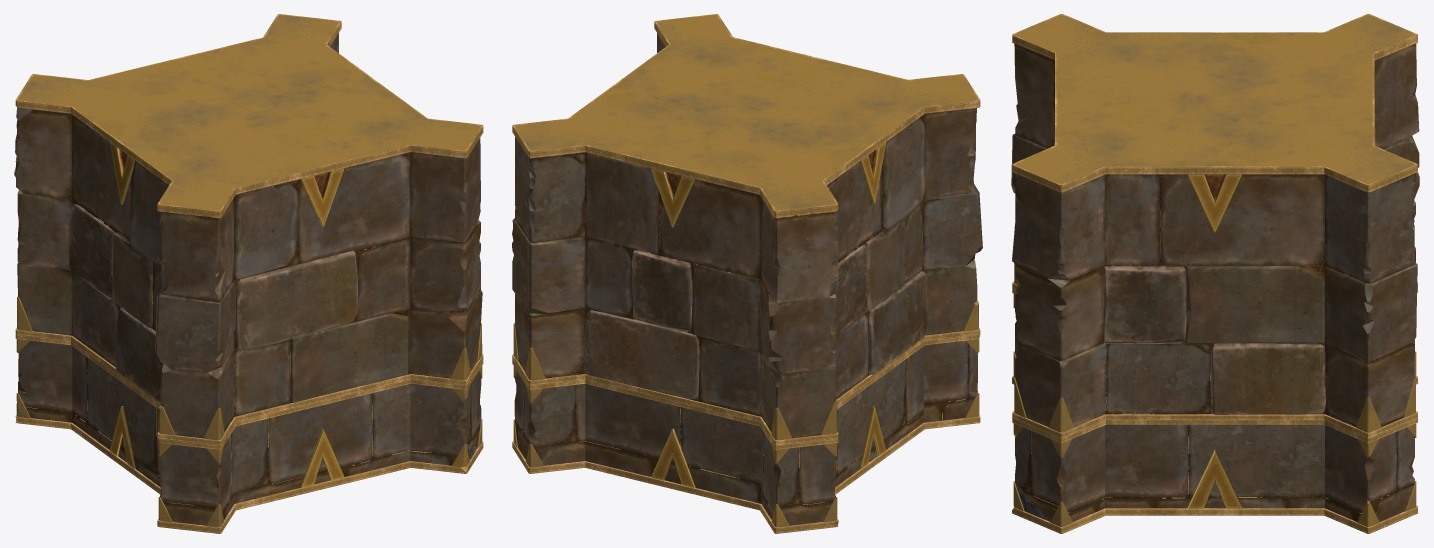
3 renders of one model, left to right at view 1: azimuth 30°, elevation 25°; view 2: azimuth 150°, elevation 25°; view 3: azimuth 270°, elevation 25°, orthographic. The views are drawn at different scales.
Parts seen in each view (by area): view 1: SM_DK_8m_TowerBase_01v1_LOD0; view 2: SM_DK_8m_TowerBase_01v1_LOD0; view 3: SM_DK_8m_TowerBase_01v1_LOD0.
Boxes of the visible parts, x1=… form: SM_DK_8m_TowerBase_01v1_LOD0: x1=14, y1=14, x2=483, y2=533; SM_DK_8m_TowerBase_01v1_LOD0: x1=512, y1=14, x2=982, y2=533; SM_DK_8m_TowerBase_01v1_LOD0: x1=1011, y1=14, x2=1419, y2=533.
Size of the model in its own units: 5.83 by 5.49 by 5.83.
5 materials, 5 textured.
